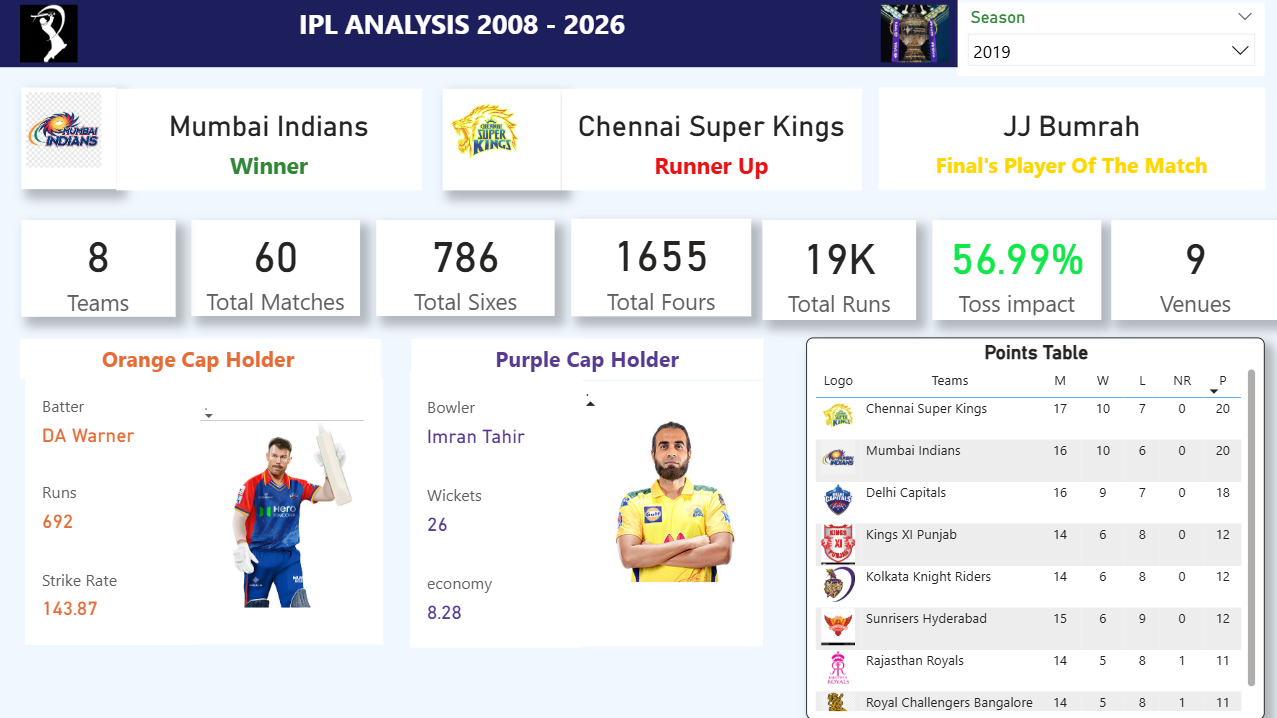

The dashboard page shown, as its layout file describes it:
{"tool":"powerbi","page":{"name":"Page 1","canvas":[1280,720],"ordinal":0},"visuals":[{"type":"multiRowCard","fields":{"Values":["IPL.winner logo"]},"box":[21.2,87.5,95.6,101.2],"z":0,"group":"g1"},{"type":"tableEx","title":"          Points Table","fields":{"Values":["Teams.Logo","Teams.Teams","IPL.match played","IPL.Mactches won","IPL.matches lost","IPL.no result","IPL.points"]},"box":[806.2,337.5,458.8,382.5],"z":0},{"type":"card","fields":{"Values":["IPL.Winner"]},"box":[116.1,88.1,305.7,101.2],"z":1000,"group":"g1"},{"type":"card","fields":{"Values":["Count(IPL.match_id)"]},"box":[191.2,220,168.8,96.2],"z":1000},{"type":"card","fields":{"Values":["IPL.total_sixes"]},"box":[376.2,220,178.8,96.2],"z":2000},{"type":"tableEx","fields":{"Values":["Players.Pic"]},"box":[193.6,379.4,189.5,265.4],"z":2000,"group":"g4"},{"type":"card","fields":{"Values":["IPL.total_fours"]},"box":[571.2,218.8,180,97.5],"z":3000},{"type":"card","fields":{"Values":["Count(IPL.batting_team)"]},"box":[20.8,220.1,154.1,96.6],"z":4000},{"type":"card","fields":{"Values":["Sum(IPL.runs_total)"]},"box":[762.5,220,153.8,100],"z":5000},{"type":"card","fields":{"Values":["IPL.toss impact"]},"box":[932.5,220,168.8,100],"z":6000},{"type":"slicer","fields":{"Values":["IPL.year"]},"box":[957.5,2.5,307.5,73.8],"z":7000},{"type":"actionButton","box":[0,0,100,40],"z":8000},{"type":"group","id":"g1","title":"Group 1","box":[21.2,87.5,401.2,102.5],"z":9000},{"type":"group","id":"g2","title":"Group 2","box":[442.5,88.8,418.8,101.2],"z":10000},{"type":"multiRowCard","fields":{"Values":["IPL.Runner logo"]},"box":[442.5,88.8,118.3,101.2],"z":10001,"group":"g2"},{"type":"card","fields":{"Values":["IPL.runner up"]},"box":[560.8,88.8,300.4,101.2],"z":10006,"group":"g2"},{"type":"card","fields":{"Values":["IPL.final_player"]},"box":[878.8,87.5,386.2,102.5],"z":11000},{"type":"group","id":"g3","title":"Group 3","box":[410.9,338.7,352,40.7],"z":12000,"group":"g6"},{"type":"group","id":"g4","title":"Group 3","box":[20,339,363.1,306.7],"z":12000},{"type":"textbox","box":[0,0,957.5,67.5],"z":13000},{"type":"card","fields":{"Values":["Count(IPL.venue)"]},"box":[1111.2,220,168.8,100],"z":14000},{"type":"cardVisual","fields":{"Data":["Min(Players.Players)","Sum(IPL.runs_batter)","IPL.strike_rate"]},"box":[24.7,372.1,173.9,273.6],"z":14000,"group":"g4"},{"type":"group","id":"g5","title":"Group 4","box":[410.1,338.7,352.8,308.9],"z":15000},{"type":"image","box":[0,0,97.5,67.5],"z":16000},{"type":"textbox","box":[410.9,338.7,352,40.7],"z":16000,"group":"g3"},{"type":"textbox","box":[20,339,362,40.4],"z":16000,"group":"g4"},{"type":"image","box":[840,0,150,67.5],"z":16001},{"type":"cardVisual","fields":{"Data":["IPL.cPurple Cap Winner","IPL.Purple Cap Wickets","IPL.economy"]},"box":[410.1,372.7,172.5,274.8],"z":17000,"group":"g6"},{"type":"tableEx","fields":{"Values":["IPL.capPurple Cap Image"]},"box":[575,380.8,187.9,265],"z":18000,"group":"g6"},{"type":"group","id":"g6","title":"Group 5","box":[410.1,338.7,352.8,308.9],"z":18002,"group":"g5"}]}

Visuals, with their boxes in screenshot pixels (x1, y1, x2, y2), scaled from the page's 1280x720 canvas onto the 1277x718 screenshot:
multiRowCard - IPL.winner logo: {"x1": 21, "y1": 87, "x2": 117, "y2": 188}
"          Points Table" tableEx: {"x1": 804, "y1": 337, "x2": 1262, "y2": 717}
card - IPL.Winner: {"x1": 116, "y1": 88, "x2": 421, "y2": 189}
card - Count(IPL.match_id): {"x1": 191, "y1": 219, "x2": 359, "y2": 315}
card - IPL.total_sixes: {"x1": 375, "y1": 219, "x2": 554, "y2": 315}
tableEx - Players.Pic: {"x1": 193, "y1": 378, "x2": 382, "y2": 643}
card - IPL.total_fours: {"x1": 570, "y1": 218, "x2": 749, "y2": 315}
card - Count(IPL.batting_team): {"x1": 21, "y1": 219, "x2": 174, "y2": 316}
card - Sum(IPL.runs_total): {"x1": 761, "y1": 219, "x2": 914, "y2": 319}
card - IPL.toss impact: {"x1": 930, "y1": 219, "x2": 1099, "y2": 319}
slicer - IPL.year: {"x1": 955, "y1": 2, "x2": 1262, "y2": 76}
actionButton: {"x1": 0, "y1": 0, "x2": 100, "y2": 40}
"Group 1" group: {"x1": 21, "y1": 87, "x2": 421, "y2": 189}
"Group 2" group: {"x1": 441, "y1": 89, "x2": 859, "y2": 189}
multiRowCard - IPL.Runner logo: {"x1": 441, "y1": 89, "x2": 559, "y2": 189}
card - IPL.runner up: {"x1": 559, "y1": 89, "x2": 859, "y2": 189}
card - IPL.final_player: {"x1": 877, "y1": 87, "x2": 1262, "y2": 189}
"Group 3" group: {"x1": 410, "y1": 338, "x2": 761, "y2": 378}
"Group 3" group: {"x1": 20, "y1": 338, "x2": 382, "y2": 644}
textbox: {"x1": 0, "y1": 0, "x2": 955, "y2": 67}
card - Count(IPL.venue): {"x1": 1109, "y1": 219, "x2": 1276, "y2": 319}
cardVisual - Min(Players.Players) x Sum(IPL.runs_batter): {"x1": 25, "y1": 371, "x2": 198, "y2": 644}
"Group 4" group: {"x1": 409, "y1": 338, "x2": 761, "y2": 646}
image: {"x1": 0, "y1": 0, "x2": 97, "y2": 67}
textbox: {"x1": 410, "y1": 338, "x2": 761, "y2": 378}
textbox: {"x1": 20, "y1": 338, "x2": 381, "y2": 378}
image: {"x1": 838, "y1": 0, "x2": 988, "y2": 67}
cardVisual - IPL.cPurple Cap Winner x IPL.Purple Cap Wickets: {"x1": 409, "y1": 372, "x2": 581, "y2": 646}
tableEx - IPL.capPurple Cap Image: {"x1": 574, "y1": 380, "x2": 761, "y2": 644}
"Group 5" group: {"x1": 409, "y1": 338, "x2": 761, "y2": 646}
